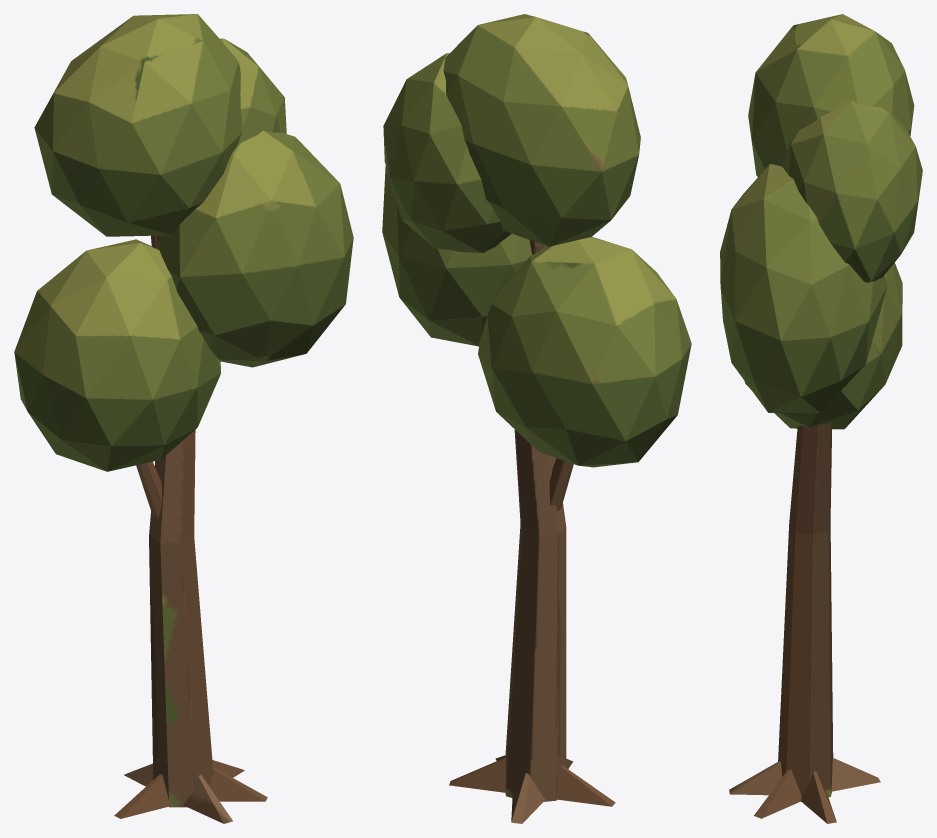
Rendered from tree-slender.glb.
3 renders of one model, left to right at view 1: azimuth 30°, elevation 25°; view 2: azimuth 150°, elevation 25°; view 3: azimuth 270°, elevation 25°, orthographic. The views are drawn at different scales.
Parts seen in each view (by area): view 1: tree-slender; view 2: tree-slender; view 3: tree-slender.
Part boxes in pixels (x1=…): tree-slender: x1=14, y1=14, x2=353, y2=823; tree-slender: x1=382, y1=14, x2=691, y2=823; tree-slender: x1=720, y1=14, x2=922, y2=823.
Bounding box in the file's own units: 3.05 × 7.47 × 1.8.
Materials: 1 (1 with a texture image).
